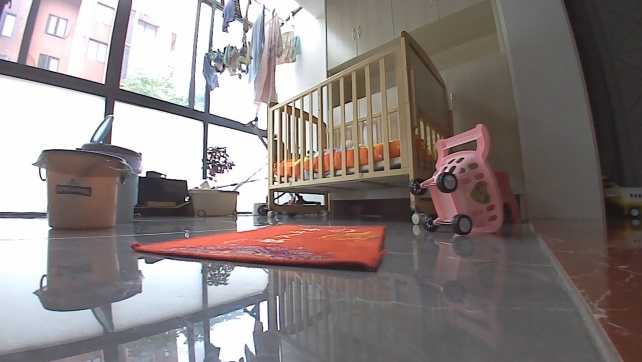blanket: (125, 223, 389, 272)
